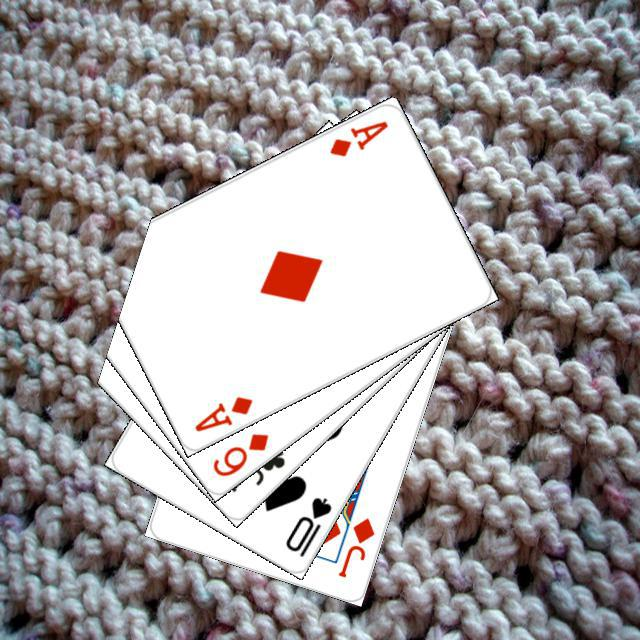10s: (280, 492, 334, 559)
6d: (207, 428, 271, 479)
Ad: (325, 115, 390, 159), (189, 391, 255, 434)
Jc: (224, 442, 287, 494)
Jd: (332, 512, 377, 579)
